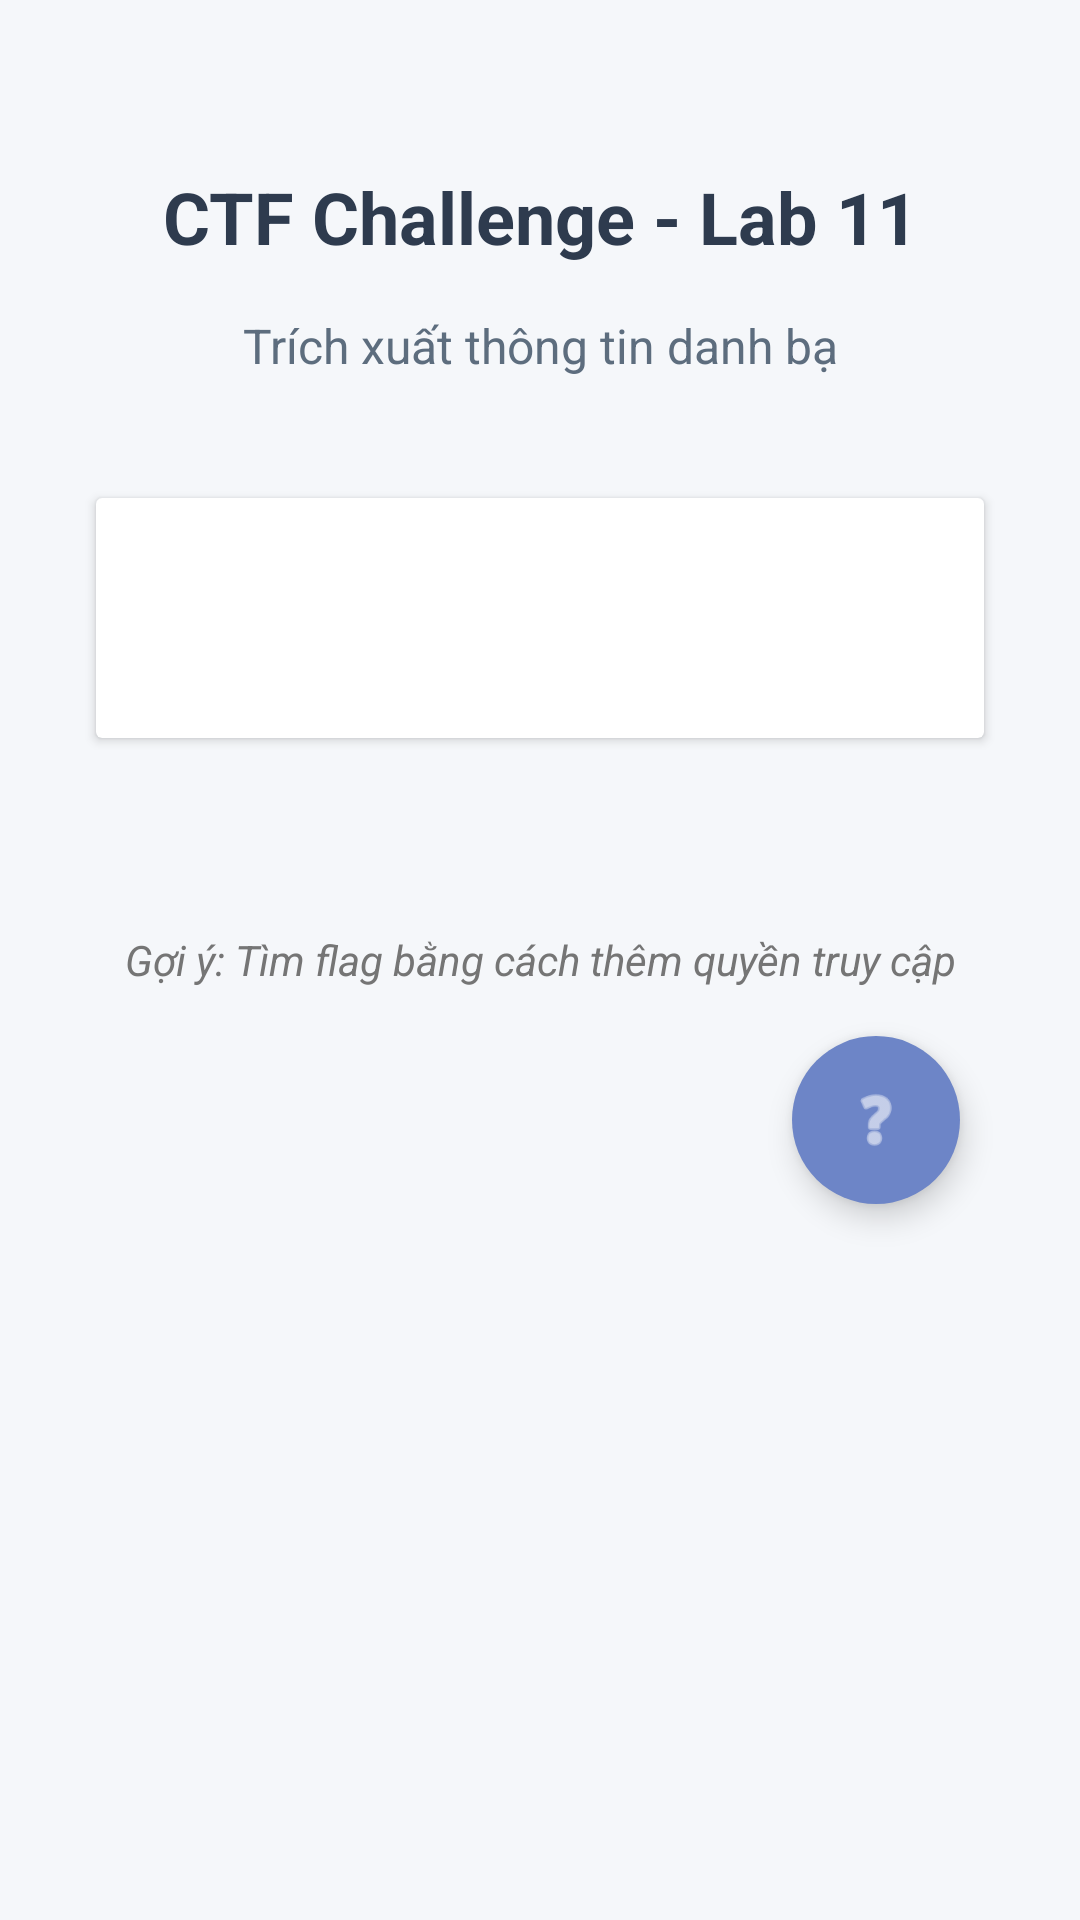

Icons on this 1080*1920 Android screen, each with its box as bbox=(x1, y1, x2, y2):
Help: bbox=(792, 1036, 960, 1204)
